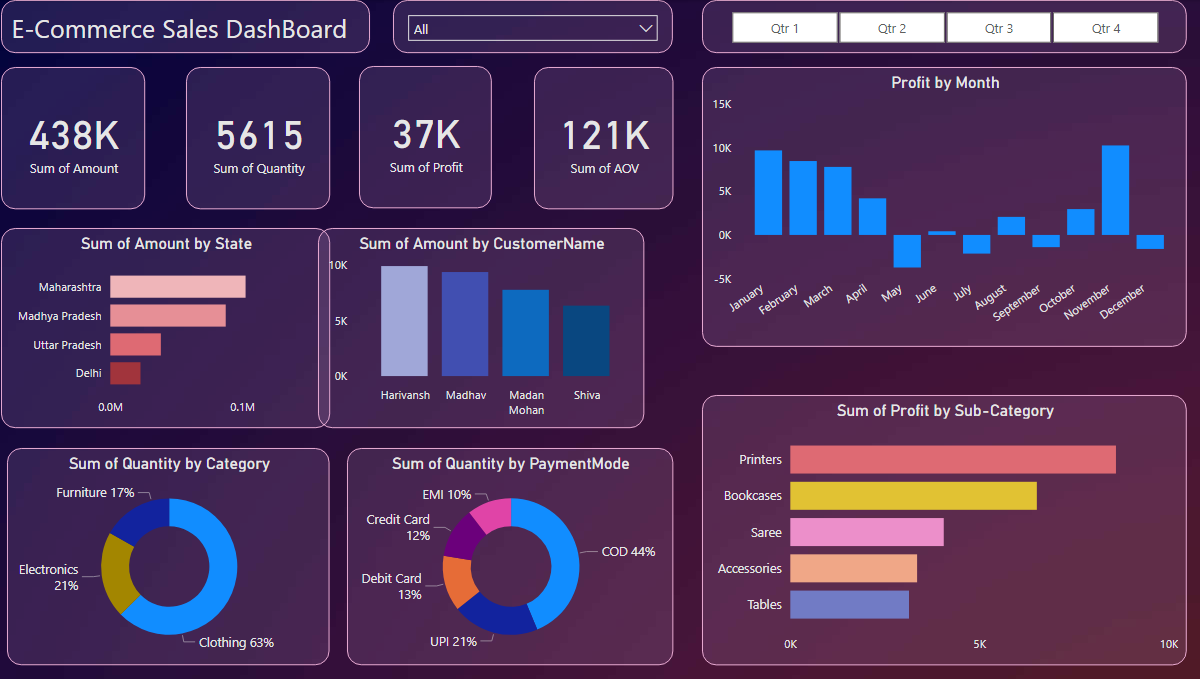

What the dashboard file says about the page in this screenshot:
{"tool":"powerbi","page":{"name":"Page 1","canvas":[1280,720],"ordinal":0},"visuals":[{"type":"textbox","box":[9.7,0,388.7,56.5],"z":0},{"type":"columnChart","title":"Profit by Month","fields":{"Y":["Details.Profit"],"Category":["Orders.Order Date.Variation.Date Hierarchy.Month"]},"box":[748.4,71,511.3,295.2],"z":1000},{"type":"barChart","fields":{"Category":["Details.Sub-Category"],"Y":["Details.Profit"]},"box":[748.4,416.1,511.3,285.5],"z":2000},{"type":"donutChart","fields":{"Category":["Details.Category"],"Y":["Details.Quantity"]},"box":[16.1,472.6,340.3,229],"z":3000},{"type":"donutChart","fields":{"Category":["Details.PaymentMode"],"Y":["Details.Quantity"]},"box":[374.2,472.6,343.5,229],"z":4000},{"type":"card","fields":{"Values":["Details.Amount"]},"box":[9.7,71,151.6,150],"z":5000},{"type":"card","fields":{"Values":["Details.Quantity"]},"box":[204.8,71,151.6,150],"z":6000},{"type":"card","fields":{"Values":["Details.AOV"]},"box":[571,71,146.8,150],"z":7000},{"type":"card","fields":{"Values":["Details.Profit"]},"box":[387.1,69.4,140.3,150],"z":8000},{"type":"barChart","fields":{"Category":["Orders.State"],"Y":["Details.Amount"]},"box":[9.7,240.3,346.8,211.3],"z":9000},{"type":"columnChart","fields":{"Category":["Orders.CustomerName"],"Y":["Details.Amount"]},"box":[343.5,240.3,343.5,211.3],"z":10000},{"type":"slicer","fields":{"Values":["Orders.Order Date.Variation.Date Hierarchy.Quarter"]},"box":[748.4,0,511.3,56.5],"z":11000},{"type":"slicer","fields":{"Values":["Orders.State"]},"box":[422.6,0,295.2,56.5],"z":11001}]}

Visuals, with their boxes in screenshot pixels (x1, y1, x2, y2), scaled from the page's 1280x720 canvas onto the 1200x679 screenshot:
textbox: (9,0,374,53)
"Profit by Month" columnChart: (702,67,1181,345)
barChart - Details.Sub-Category x Details.Profit: (702,392,1181,662)
donutChart - Details.Category x Details.Quantity: (15,446,334,662)
donutChart - Details.PaymentMode x Details.Quantity: (351,446,673,662)
card - Details.Amount: (9,67,151,208)
card - Details.Quantity: (192,67,334,208)
card - Details.AOV: (535,67,673,208)
card - Details.Profit: (363,65,494,207)
barChart - Orders.State x Details.Amount: (9,227,334,426)
columnChart - Orders.CustomerName x Details.Amount: (322,227,644,426)
slicer - Orders.Order Date.Variation.Date Hierarchy.Quarter: (702,0,1181,53)
slicer - Orders.State: (396,0,673,53)
